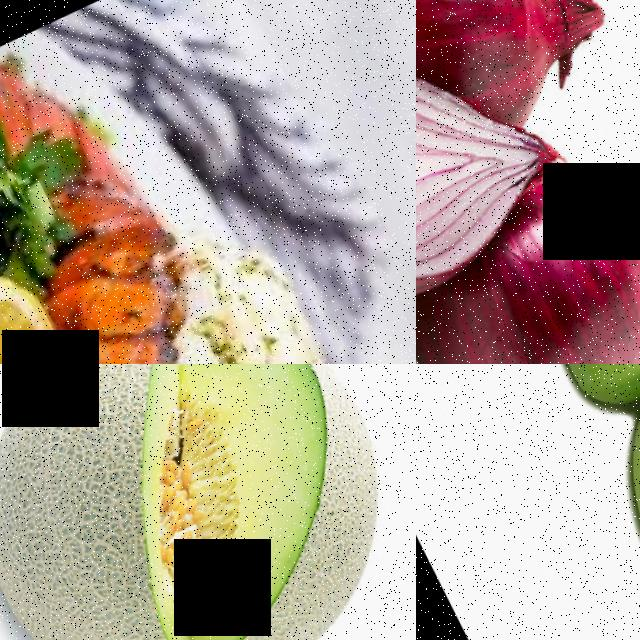lobster tails: (0, 50, 253, 364)
mango: (576, 364, 640, 640)
melon: (0, 364, 416, 640)
onion: (416, 53, 555, 342), (416, 195, 640, 364), (416, 0, 586, 116)
